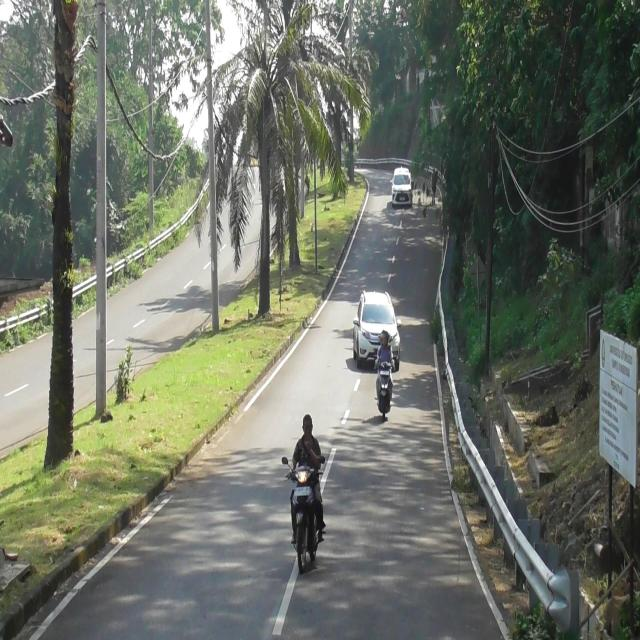motorcycle: (288, 460, 322, 572), (376, 361, 393, 422)
person: (287, 411, 324, 542), (376, 328, 394, 368)
rider_region: (287, 403, 326, 572), (373, 323, 395, 429)
